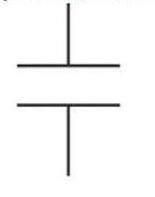Capacitor: (7, 34, 127, 138)
